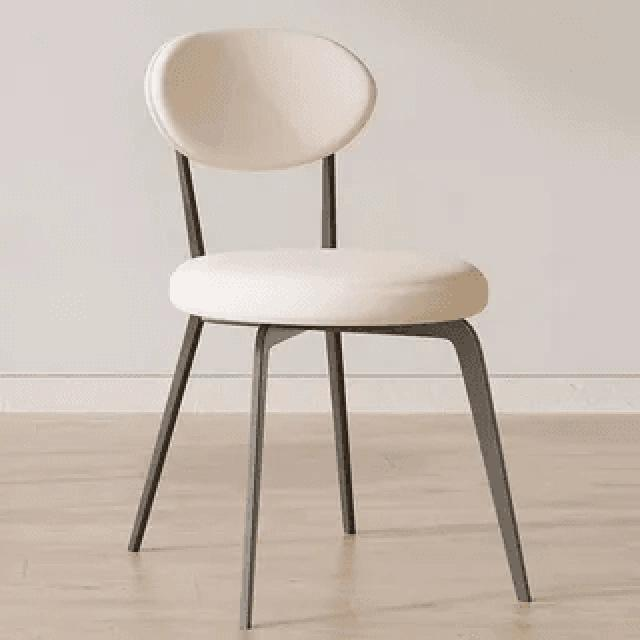chair: (121, 22, 542, 630), (144, 26, 491, 324)
